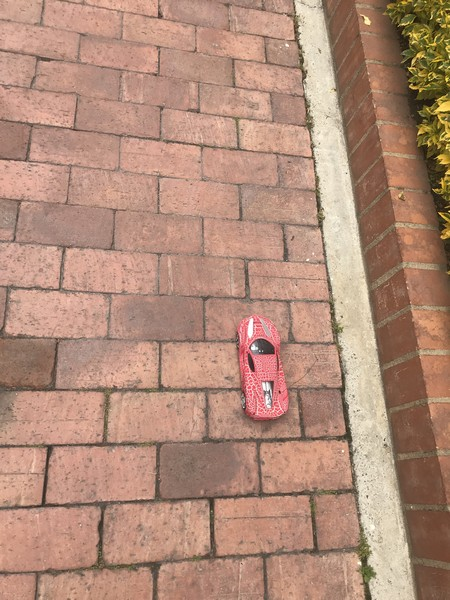RC: (235, 312, 289, 423)
